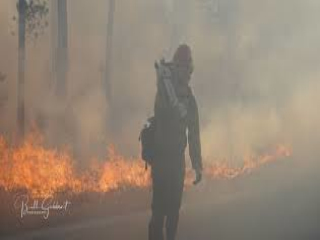fire: (2, 140, 153, 195), (202, 148, 305, 177)
smoke: (12, 19, 148, 134)
